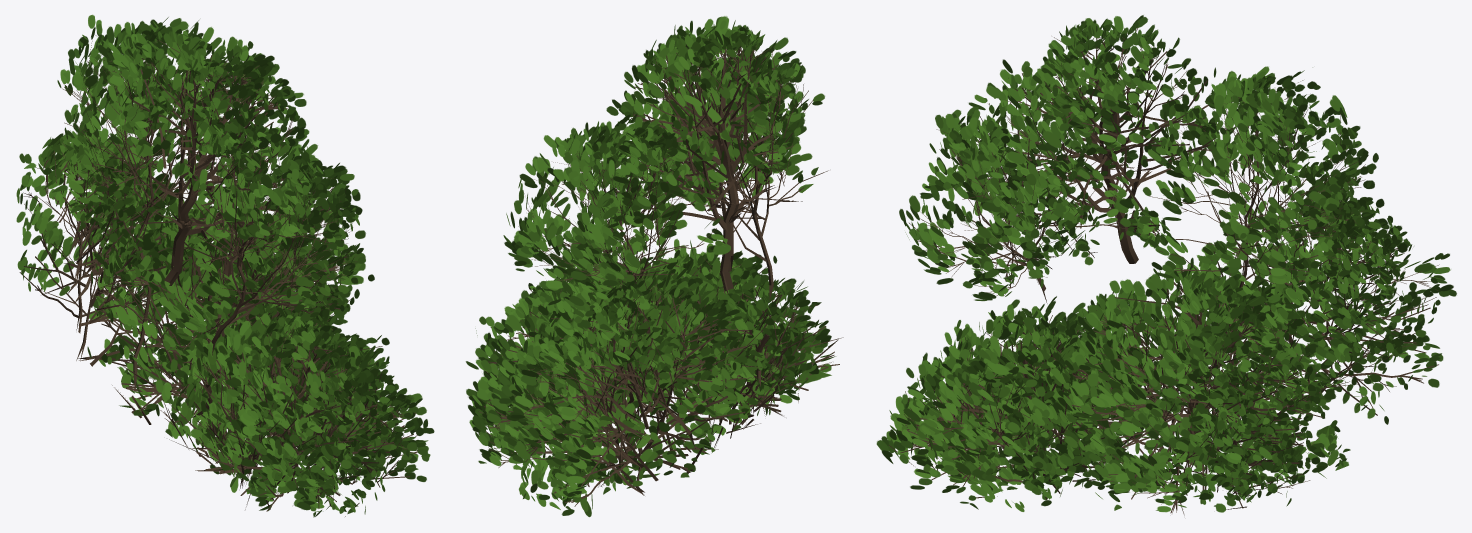
3 renders of one model, left to right at view 1: azimuth 30°, elevation 25°; view 2: azimuth 150°, elevation 25°; view 3: azimuth 270°, elevation 25°, orthographic.
Parts seen in each view (by area): view 1: oak 01.001_trunk_Mat.001_0.376; view 2: oak 01.001_trunk_Mat.001_0.376; view 3: oak 01.001_trunk_Mat.001_0.376.
Part boxes in pixels (x1,y1,x2,y2): oak 01.001_trunk_Mat.001_0.376: (16, 14, 434, 517); oak 01.001_trunk_Mat.001_0.376: (465, 16, 843, 517); oak 01.001_trunk_Mat.001_0.376: (876, 15, 1456, 515).
Size of the model in its own units: 1.81 by 3.15 by 3.83.
2 materials, 1 textured.
